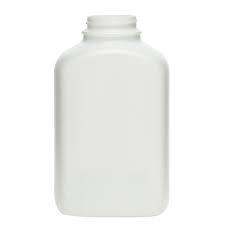Container for household chemicals: (32, 10, 186, 220)
